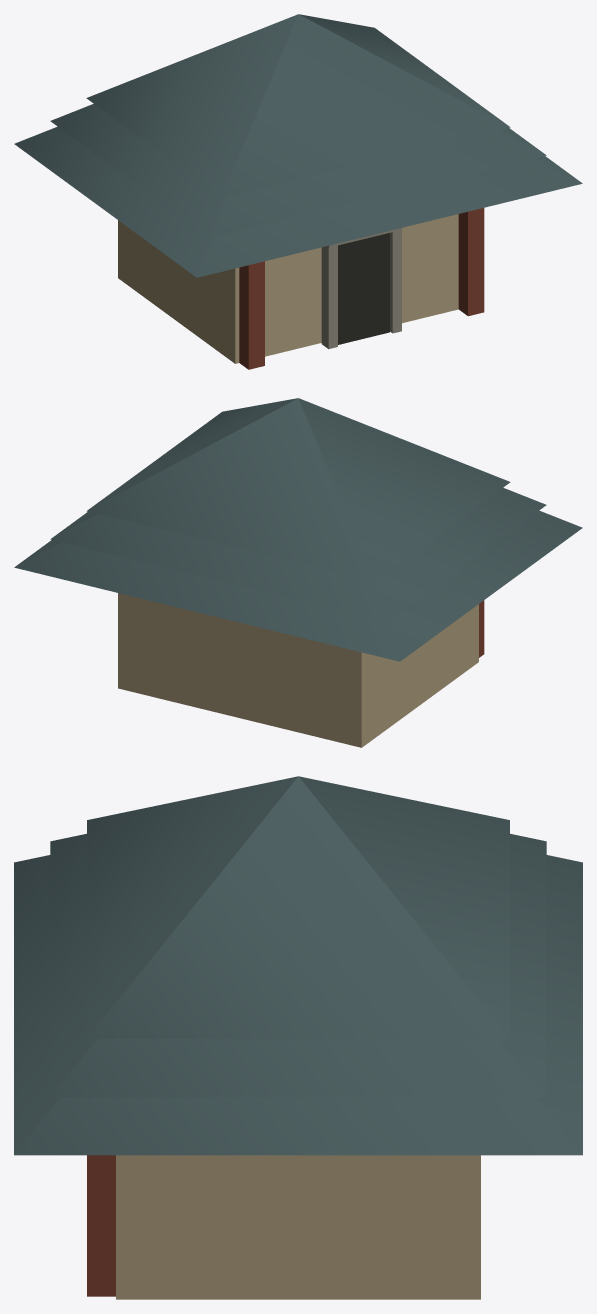
File: custom-home-eastasia.glb
3 renders of one model, top to bottom at view 1: azimuth 30°, elevation 25°; view 2: azimuth 150°, elevation 25°; view 3: azimuth 270°, elevation 25°, orthographic. The views are drawn at different scales.
Parts seen in each view (by area): view 1: custom-home-eastasia; view 2: custom-home-eastasia; view 3: custom-home-eastasia.
Part boxes in pixels (x1,y1,x2,y2): custom-home-eastasia: (14, 14, 582, 369); custom-home-eastasia: (14, 398, 582, 747); custom-home-eastasia: (14, 776, 582, 1299).
Bounding box in the file's own units: 1 × 0.6862 × 0.8211.
